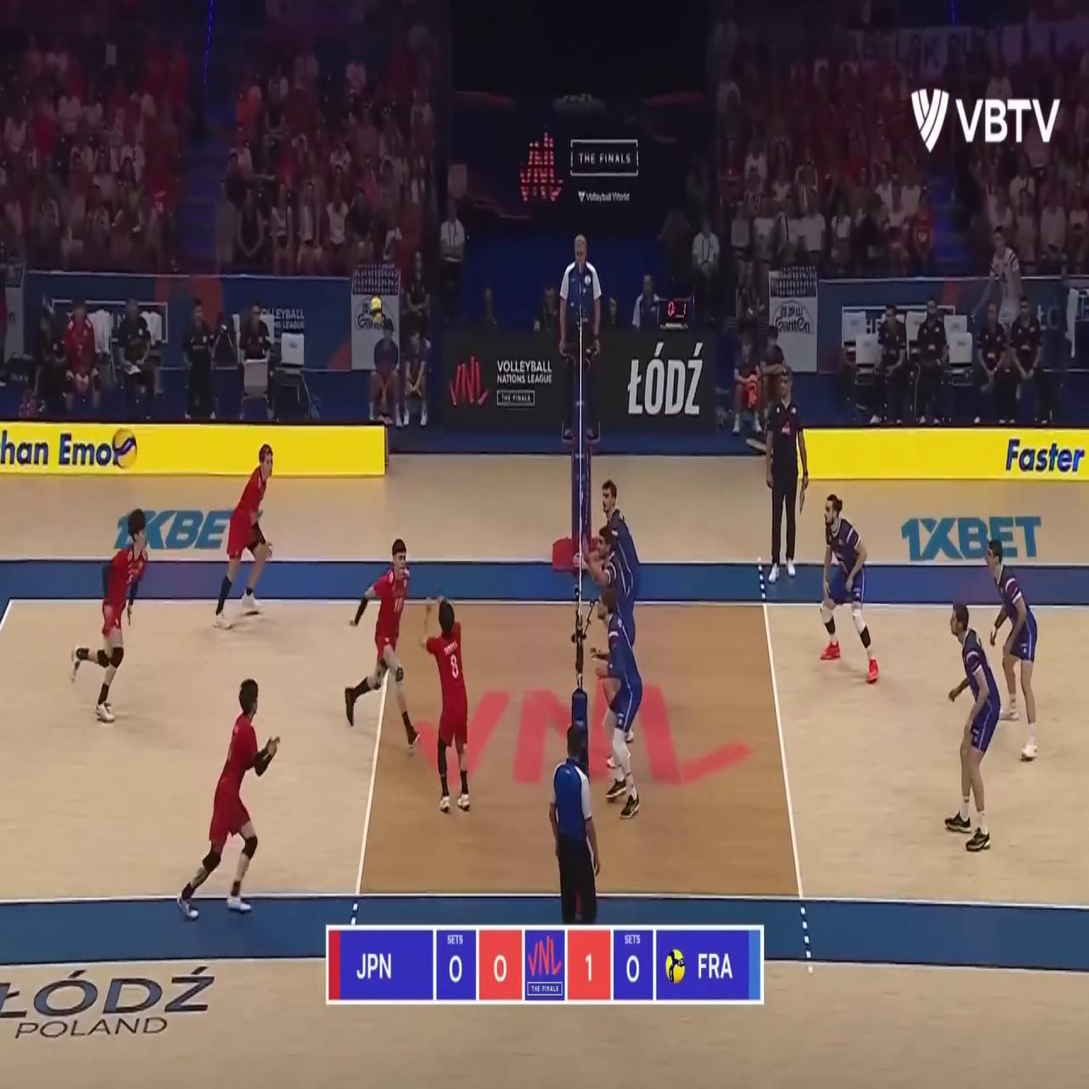ball: (370, 296, 383, 324)
